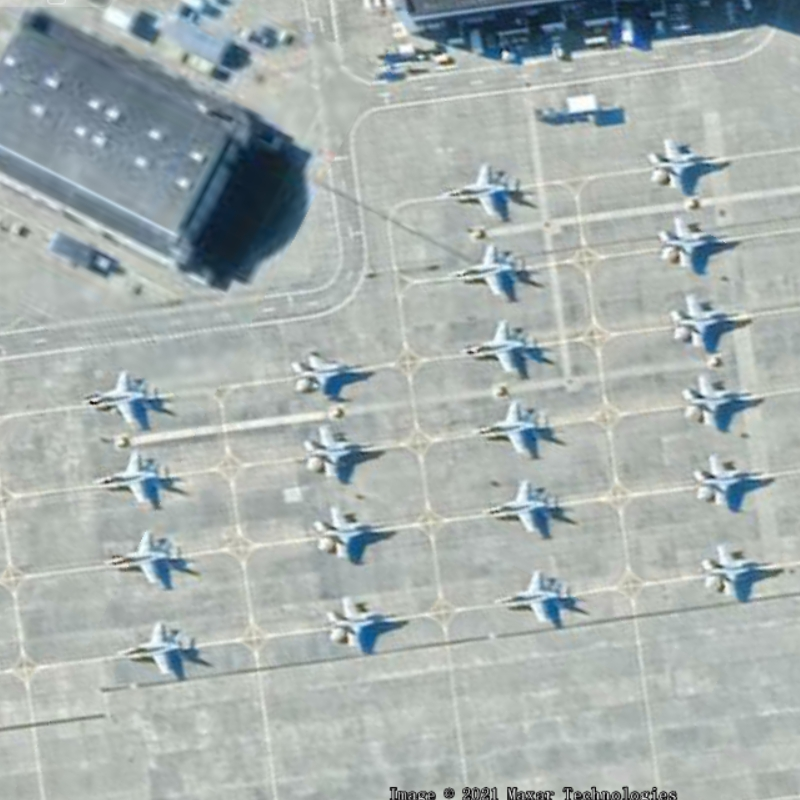A16: (99, 612, 199, 685), (76, 443, 178, 514), (60, 362, 160, 433), (684, 443, 776, 519), (692, 535, 783, 610), (90, 524, 187, 594), (437, 239, 531, 309), (445, 315, 542, 382), (643, 128, 732, 201), (471, 471, 563, 541), (462, 393, 556, 461), (661, 287, 754, 355), (436, 155, 525, 226), (485, 563, 573, 634), (653, 208, 741, 277), (305, 499, 394, 567), (280, 340, 373, 404), (675, 366, 759, 433), (320, 590, 400, 657), (298, 417, 378, 483)
